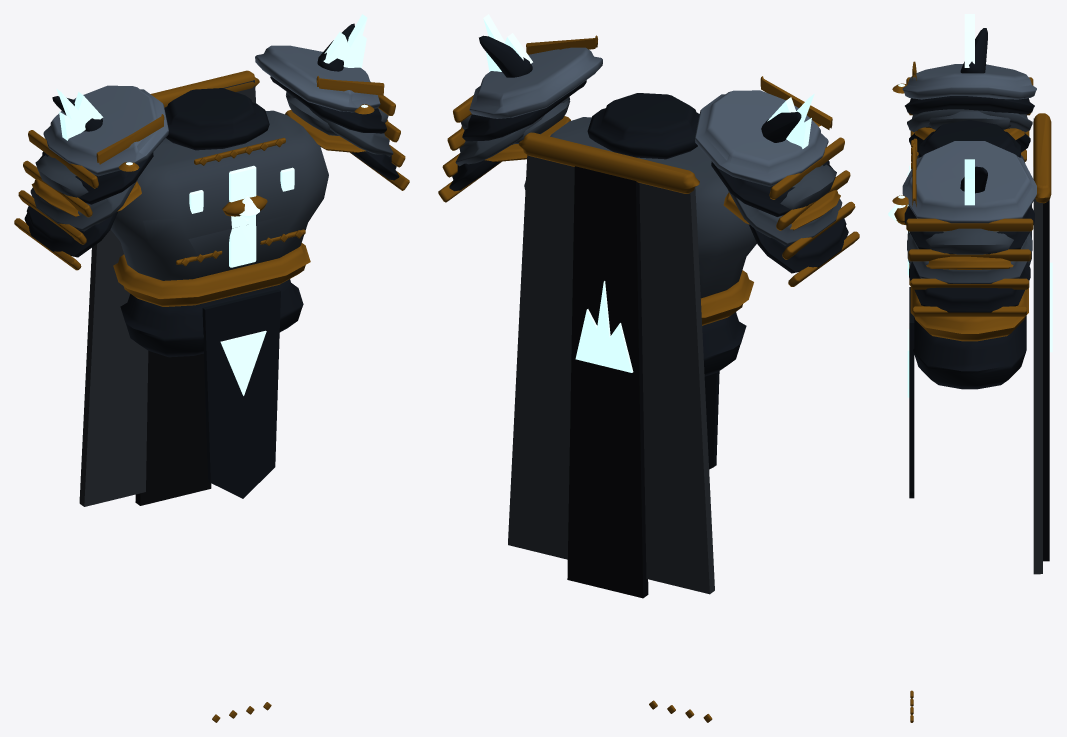
The model's file is Runica_Armadura.fbx.
The picture shows the model from 3 angles, left to right: view 1: azimuth 30°, elevation 25°; view 2: azimuth 150°, elevation 25°; view 3: azimuth 270°, elevation 25°; orthographic projection. The views are drawn at different scales.
Visible parts, largest first — view 1: Piece; view 2: Piece; view 3: Piece.
Boxes of the visible parts, <box> form: Piece: <box>14,14,409,722</box>; Piece: <box>438,14,859,722</box>; Piece: <box>888,14,1052,722</box>.
Bounding box in the file's own units: 0.8979 × 1.62 × 0.385.
